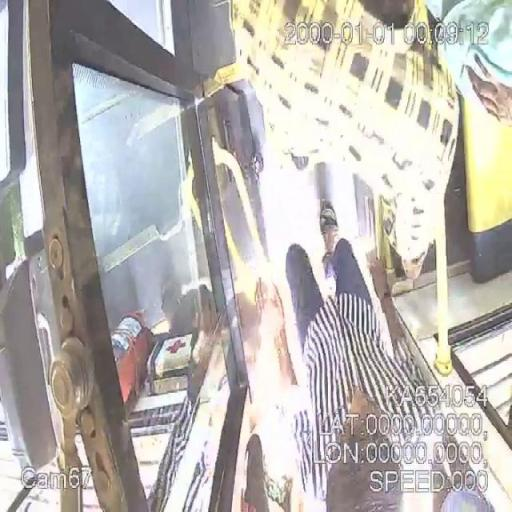persona: (256, 201, 420, 512)
